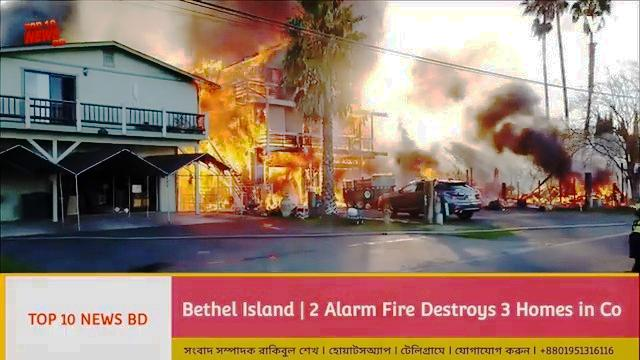fire: (535, 181, 622, 213), (208, 132, 256, 177), (189, 52, 238, 79)
smoke: (471, 82, 561, 176)
